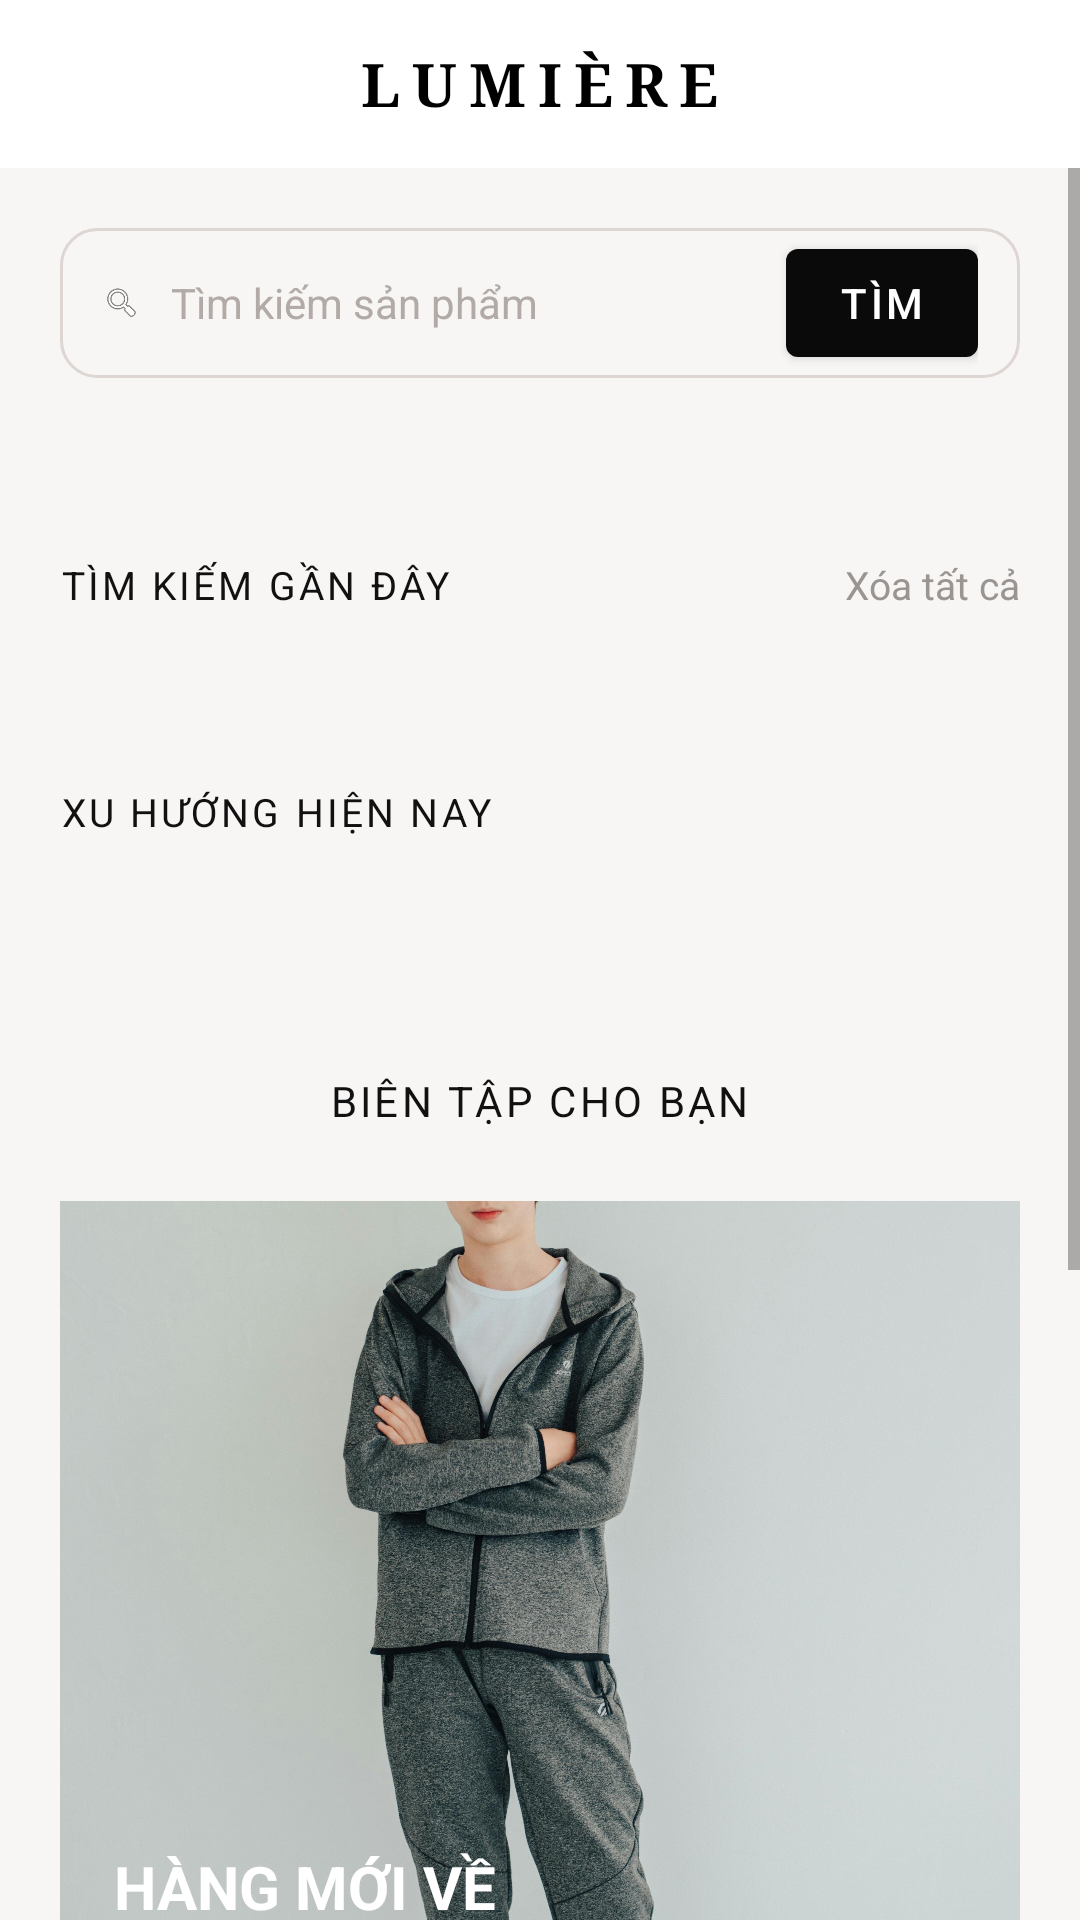

Where to tap for icons on this 1080*1920 app screen, as [x,y]:
search: [121,302]
